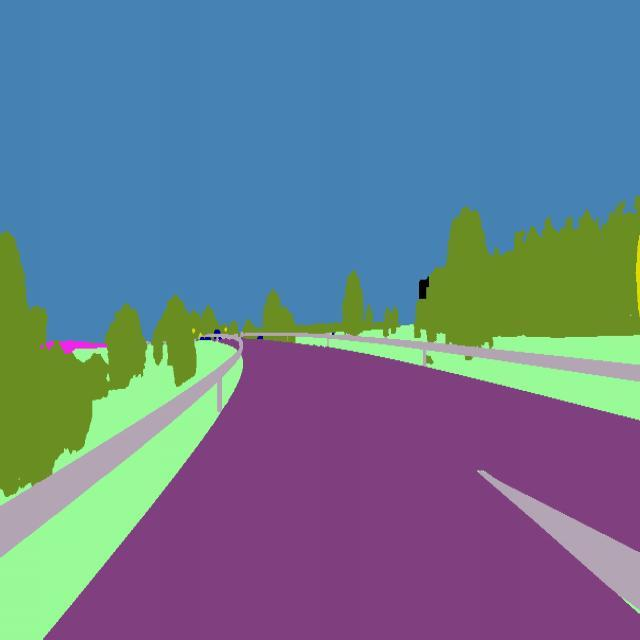safe: (197, 330, 212, 346), (256, 330, 266, 345), (212, 328, 222, 343)
